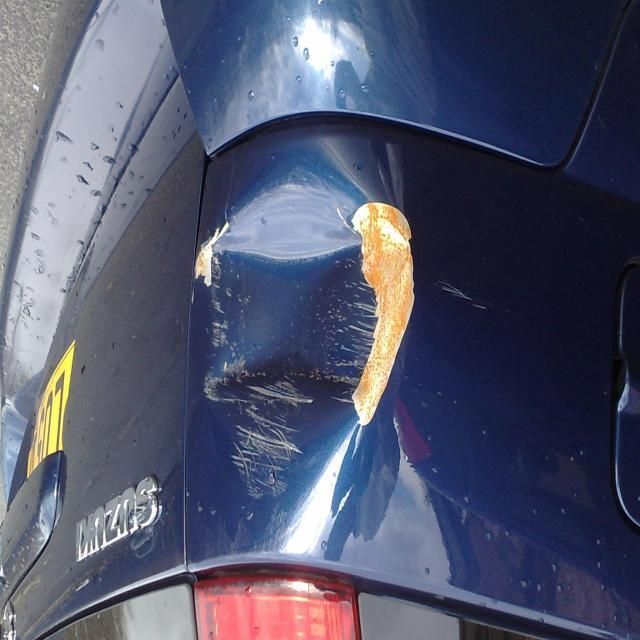dent: (201, 172, 410, 500)
